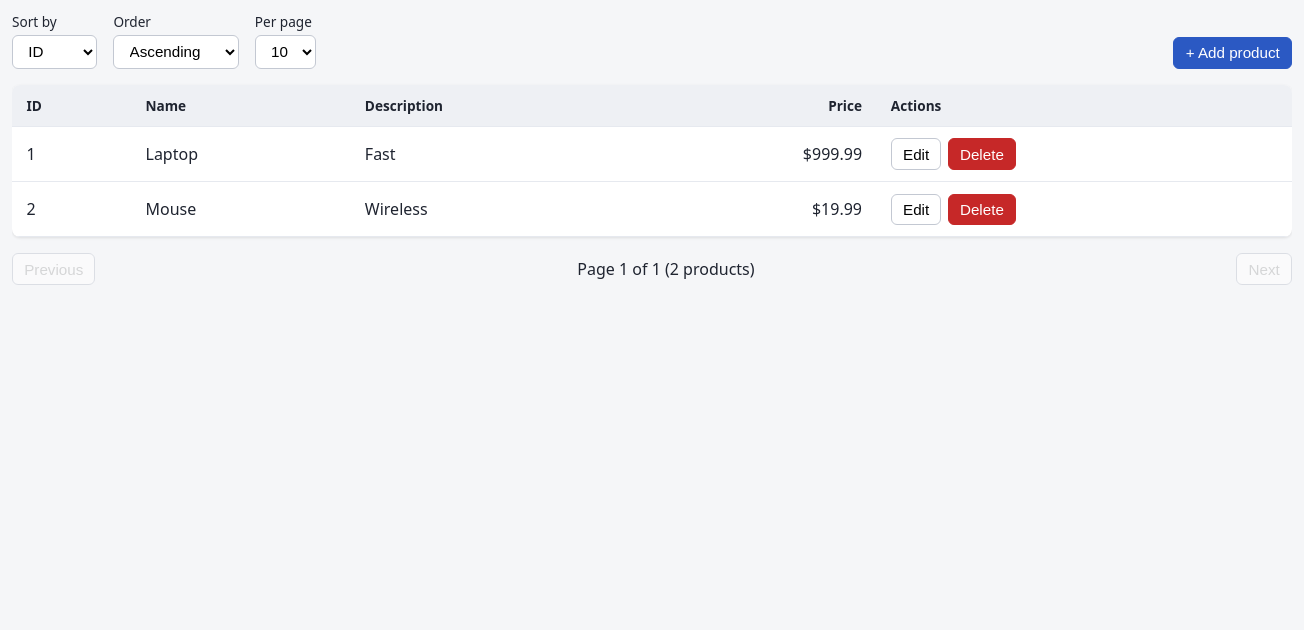
Test: ProductList › edits a product using the pre-filled form
Expected: the text "Laptop" is shown, [131, 127, 350, 182]
Click the button "Edit" in the row of "Laptop": {"x": 916, "y": 154} [891, 138, 941, 170]
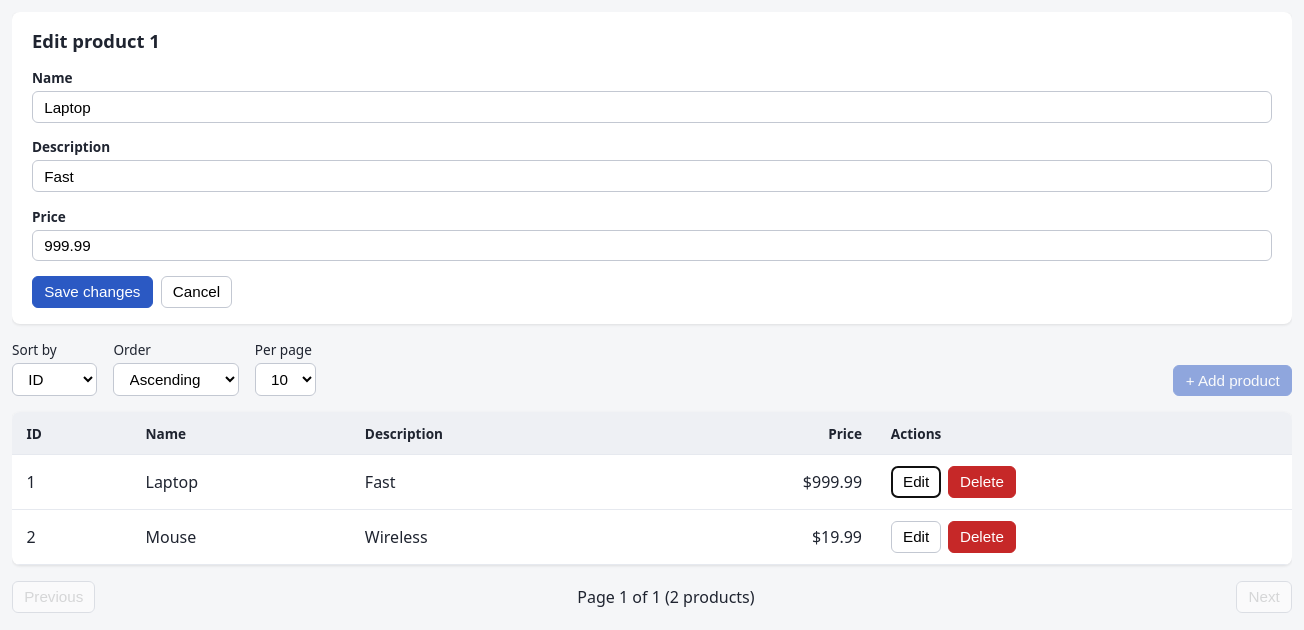
Result: the heading "Edit product 1" is shown at [32, 28, 160, 53]
Result: the field labelled "Name" holds "Laptop"
Replace the text in the field labelled "Name" with "Gaming Laptop": {"x": 652, "y": 107} [32, 91, 1272, 123]
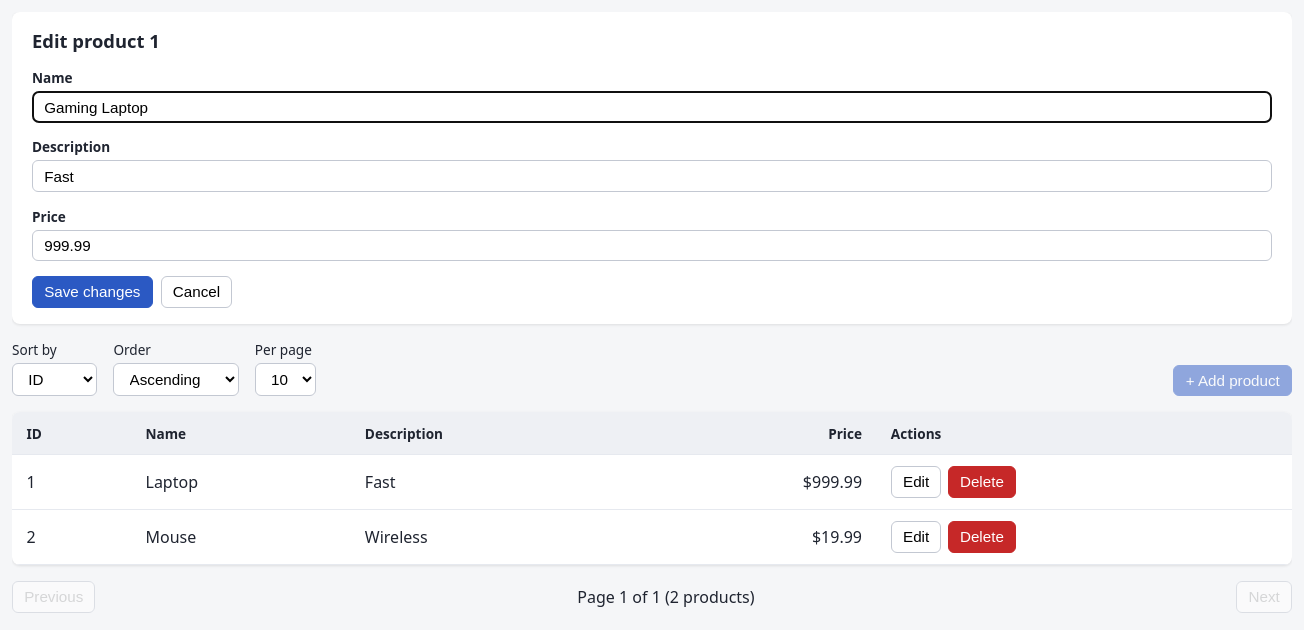
Click the button "Save changes": {"x": 92, "y": 292} [32, 276, 153, 308]
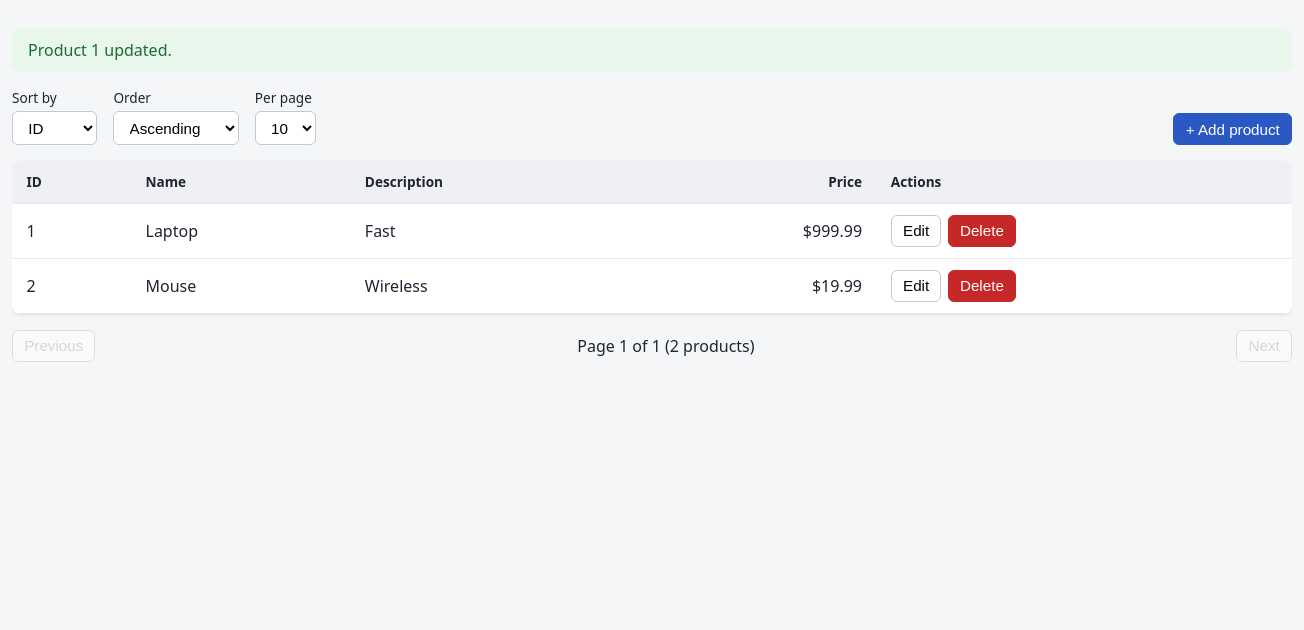
Result: the text "Product 1 updated." is shown at [12, 28, 1292, 72]
